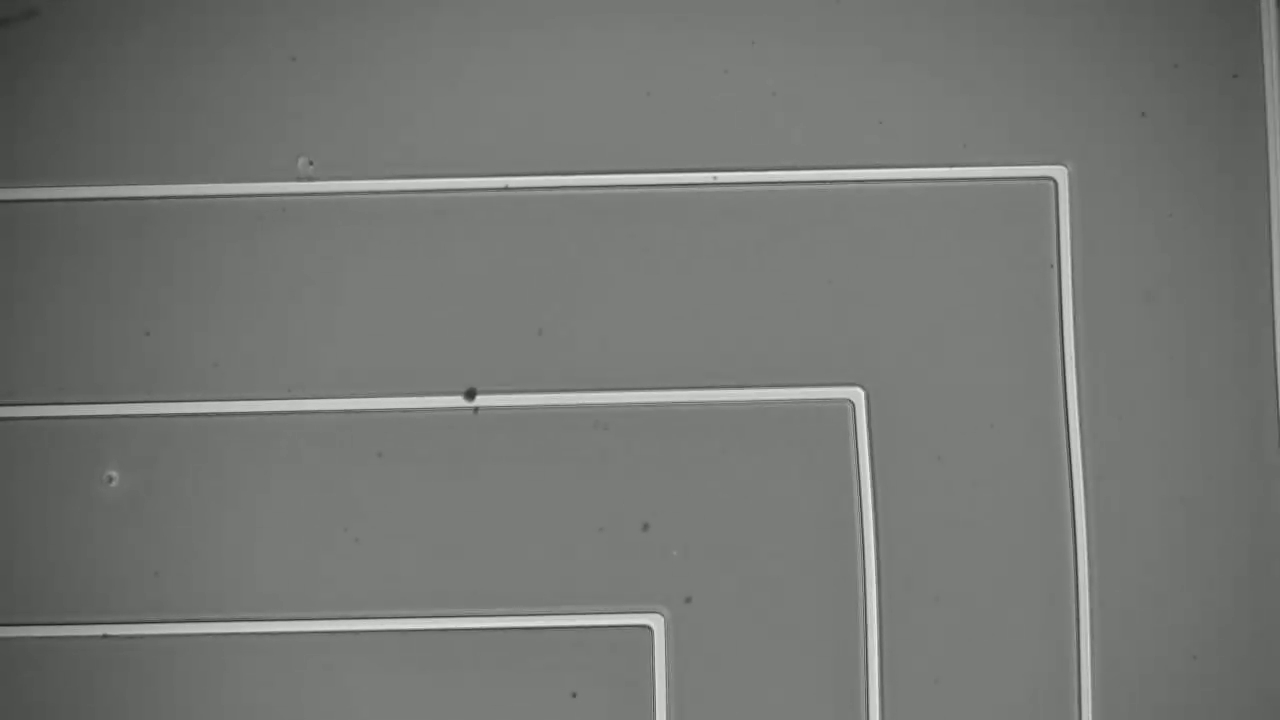stains_enbedded: (456, 380, 489, 412)
